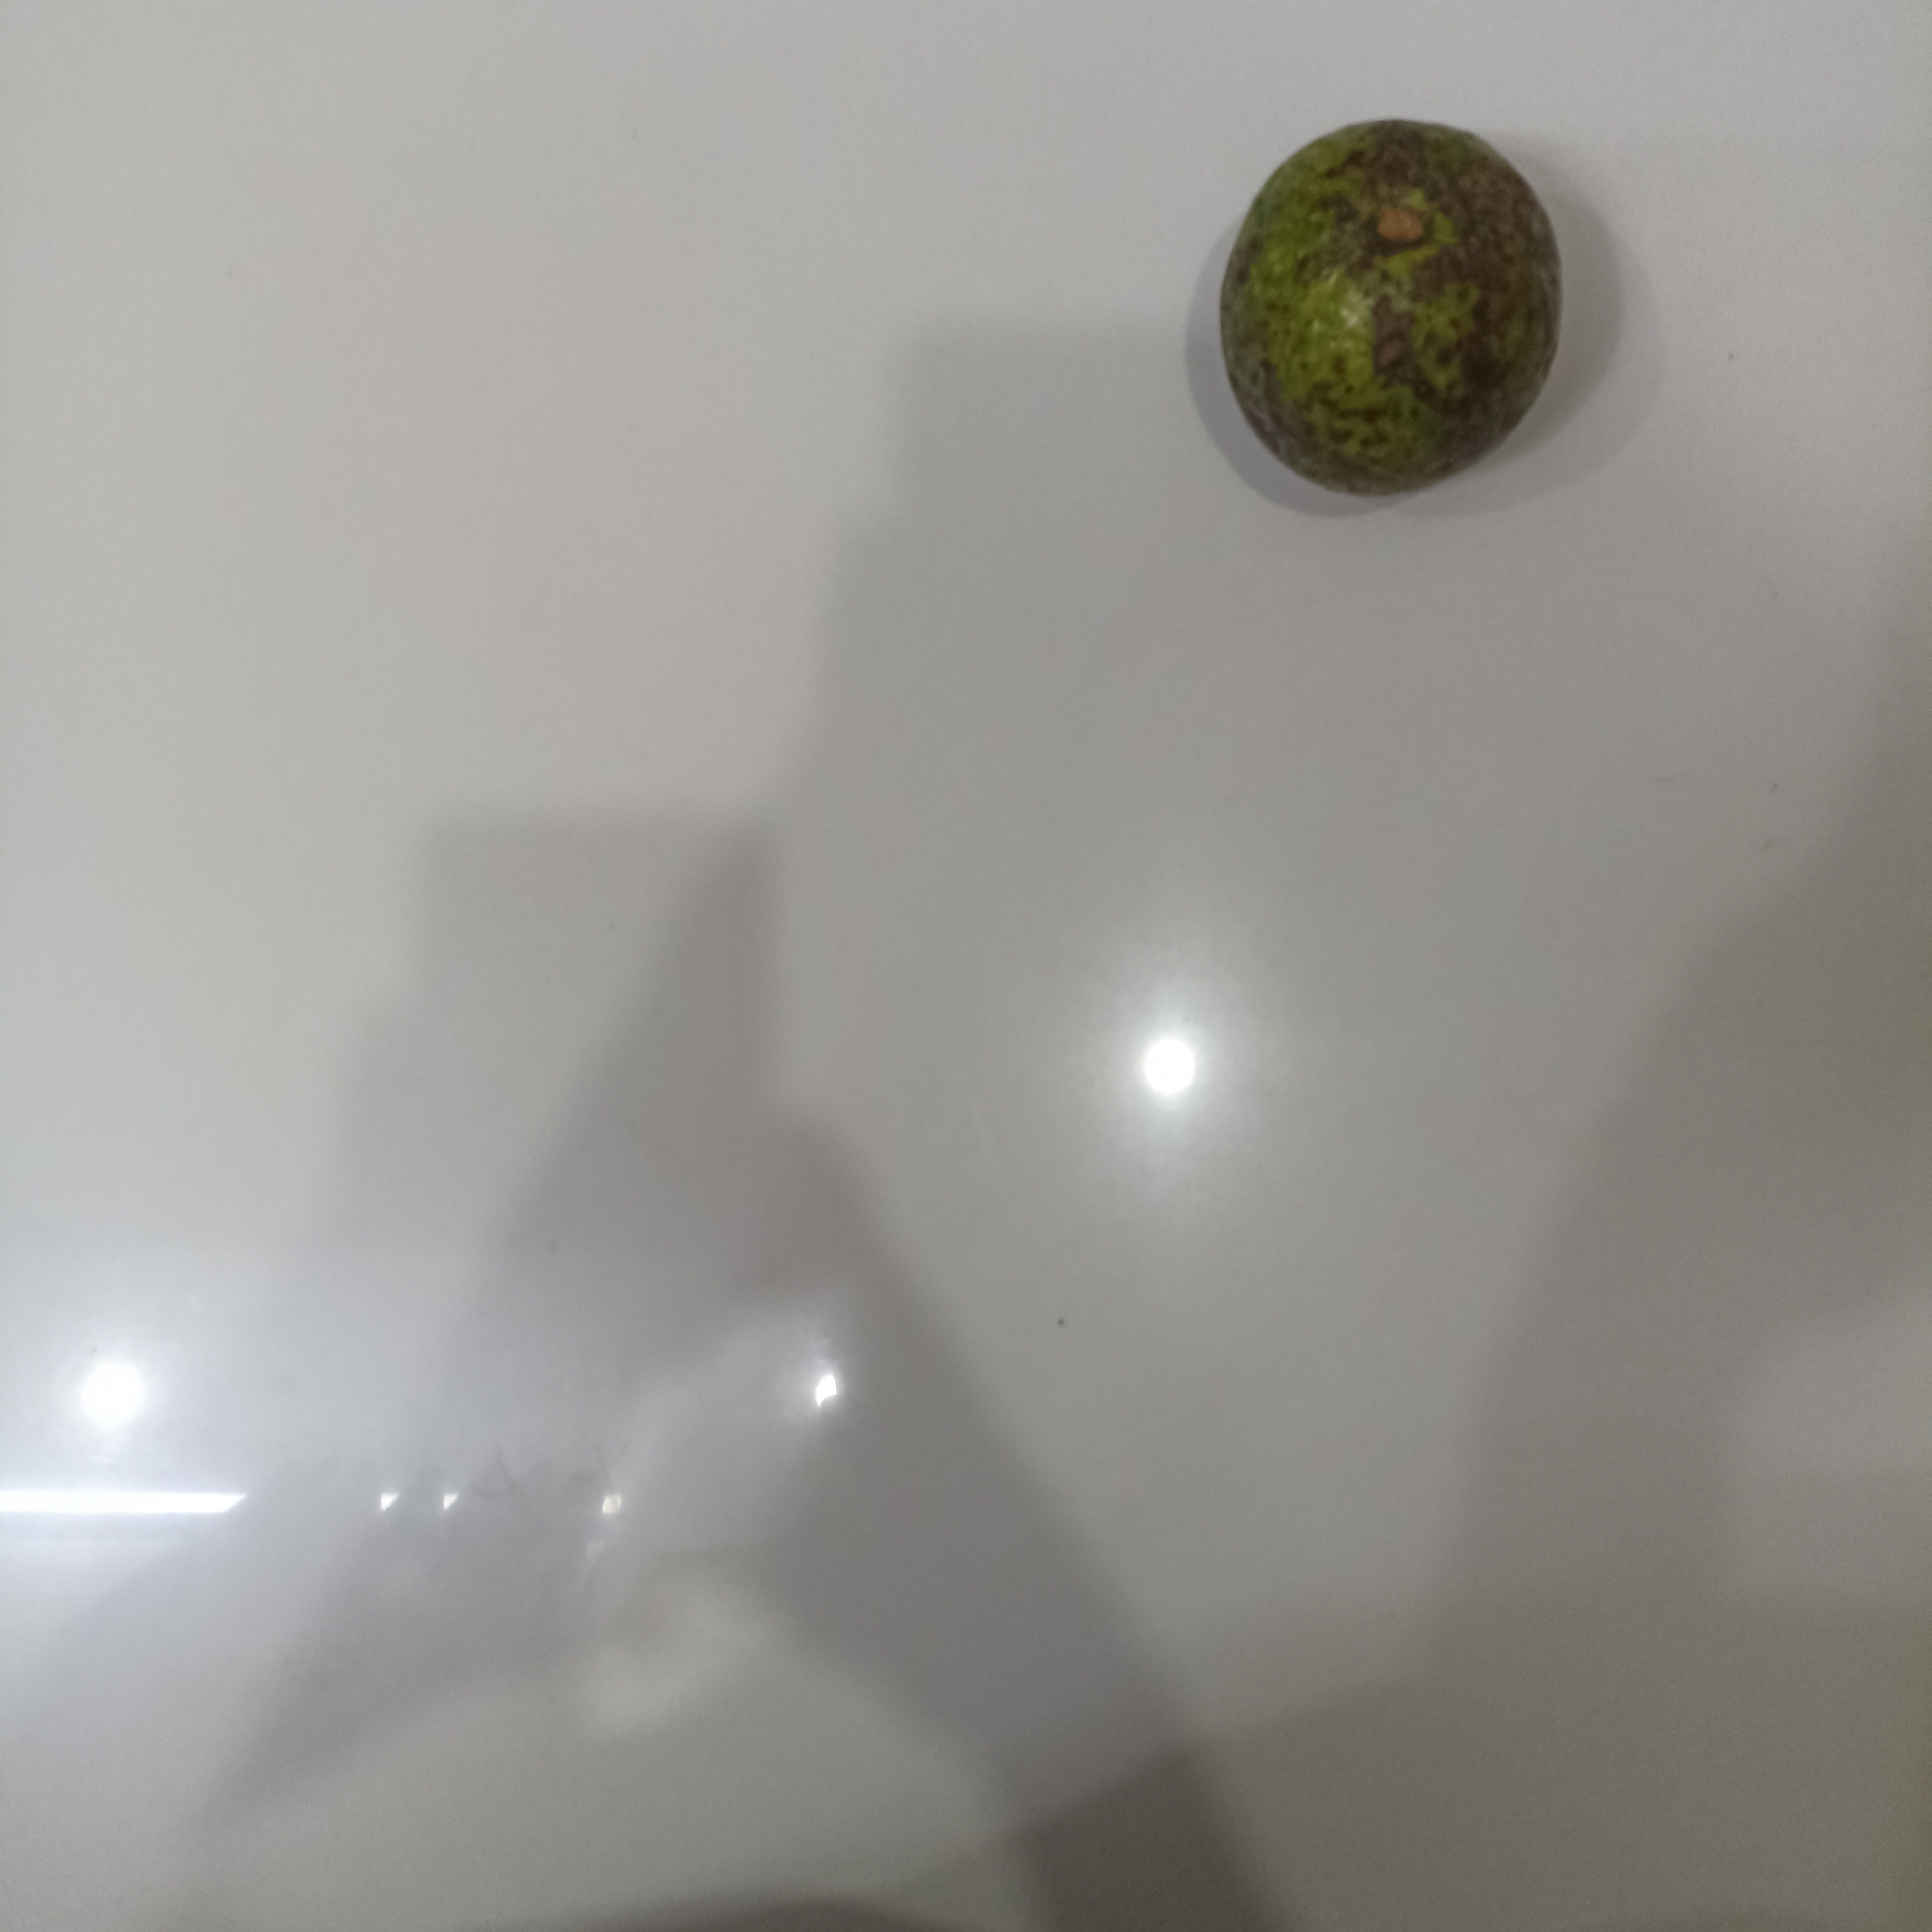Bo: (1224, 115, 1569, 504)
